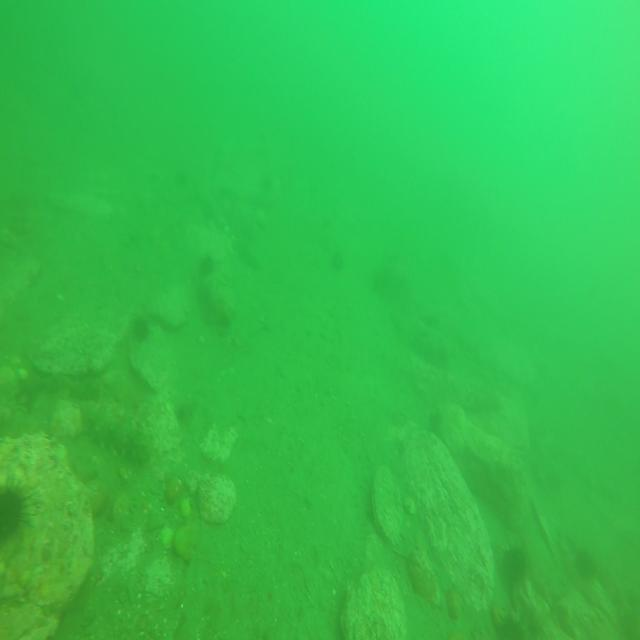echinus: (0, 478, 35, 544), (500, 536, 532, 588), (575, 544, 600, 585), (129, 306, 151, 346), (196, 250, 216, 285)
holothurian: (76, 399, 150, 462)
scallop: (31, 317, 117, 378), (342, 563, 405, 640), (370, 459, 401, 543), (197, 467, 237, 524)
